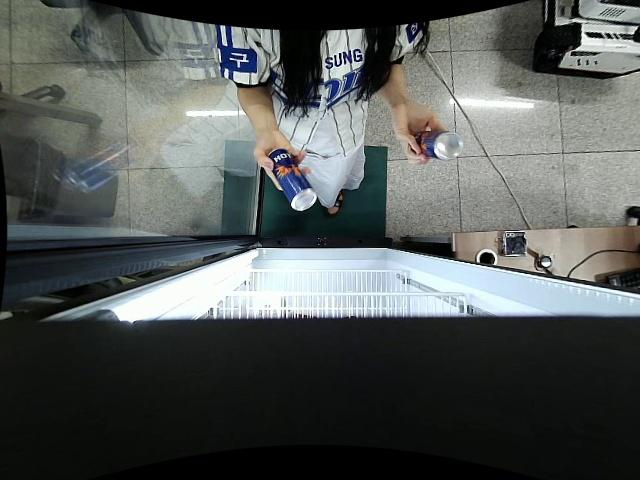00_hand: (253, 133, 312, 192), (392, 103, 449, 163)
16_hot6: (270, 147, 317, 211), (408, 129, 461, 161)
